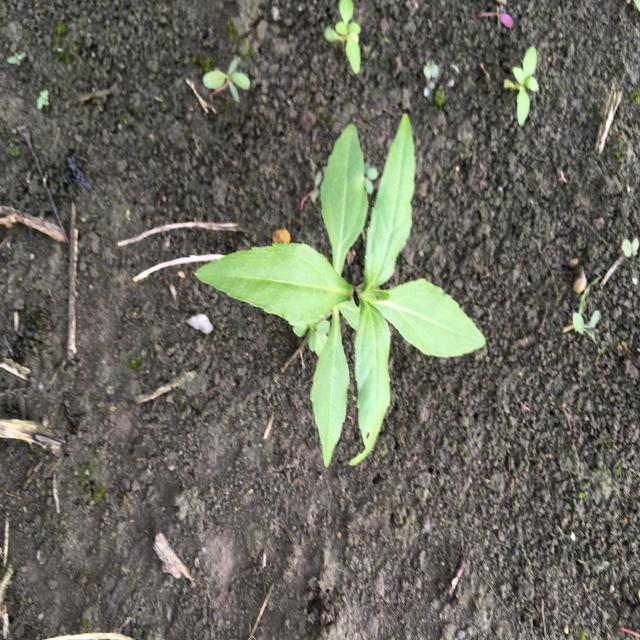Eclipta: (192, 112, 487, 470)
